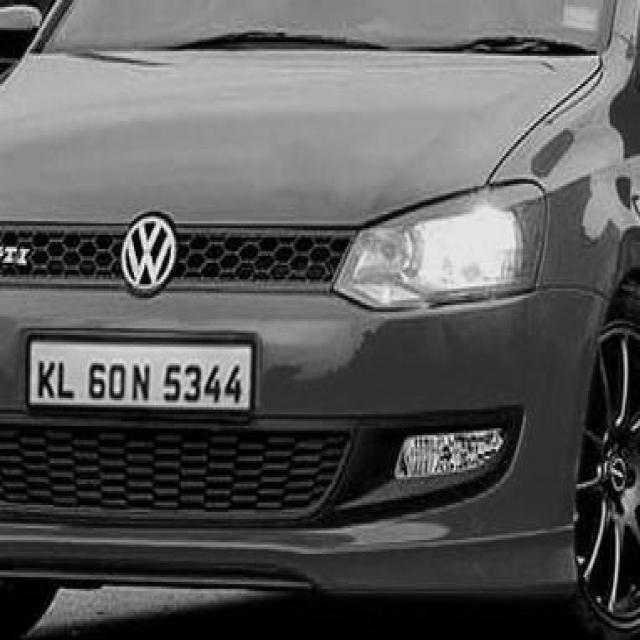license-plate: (28, 338, 260, 408)
